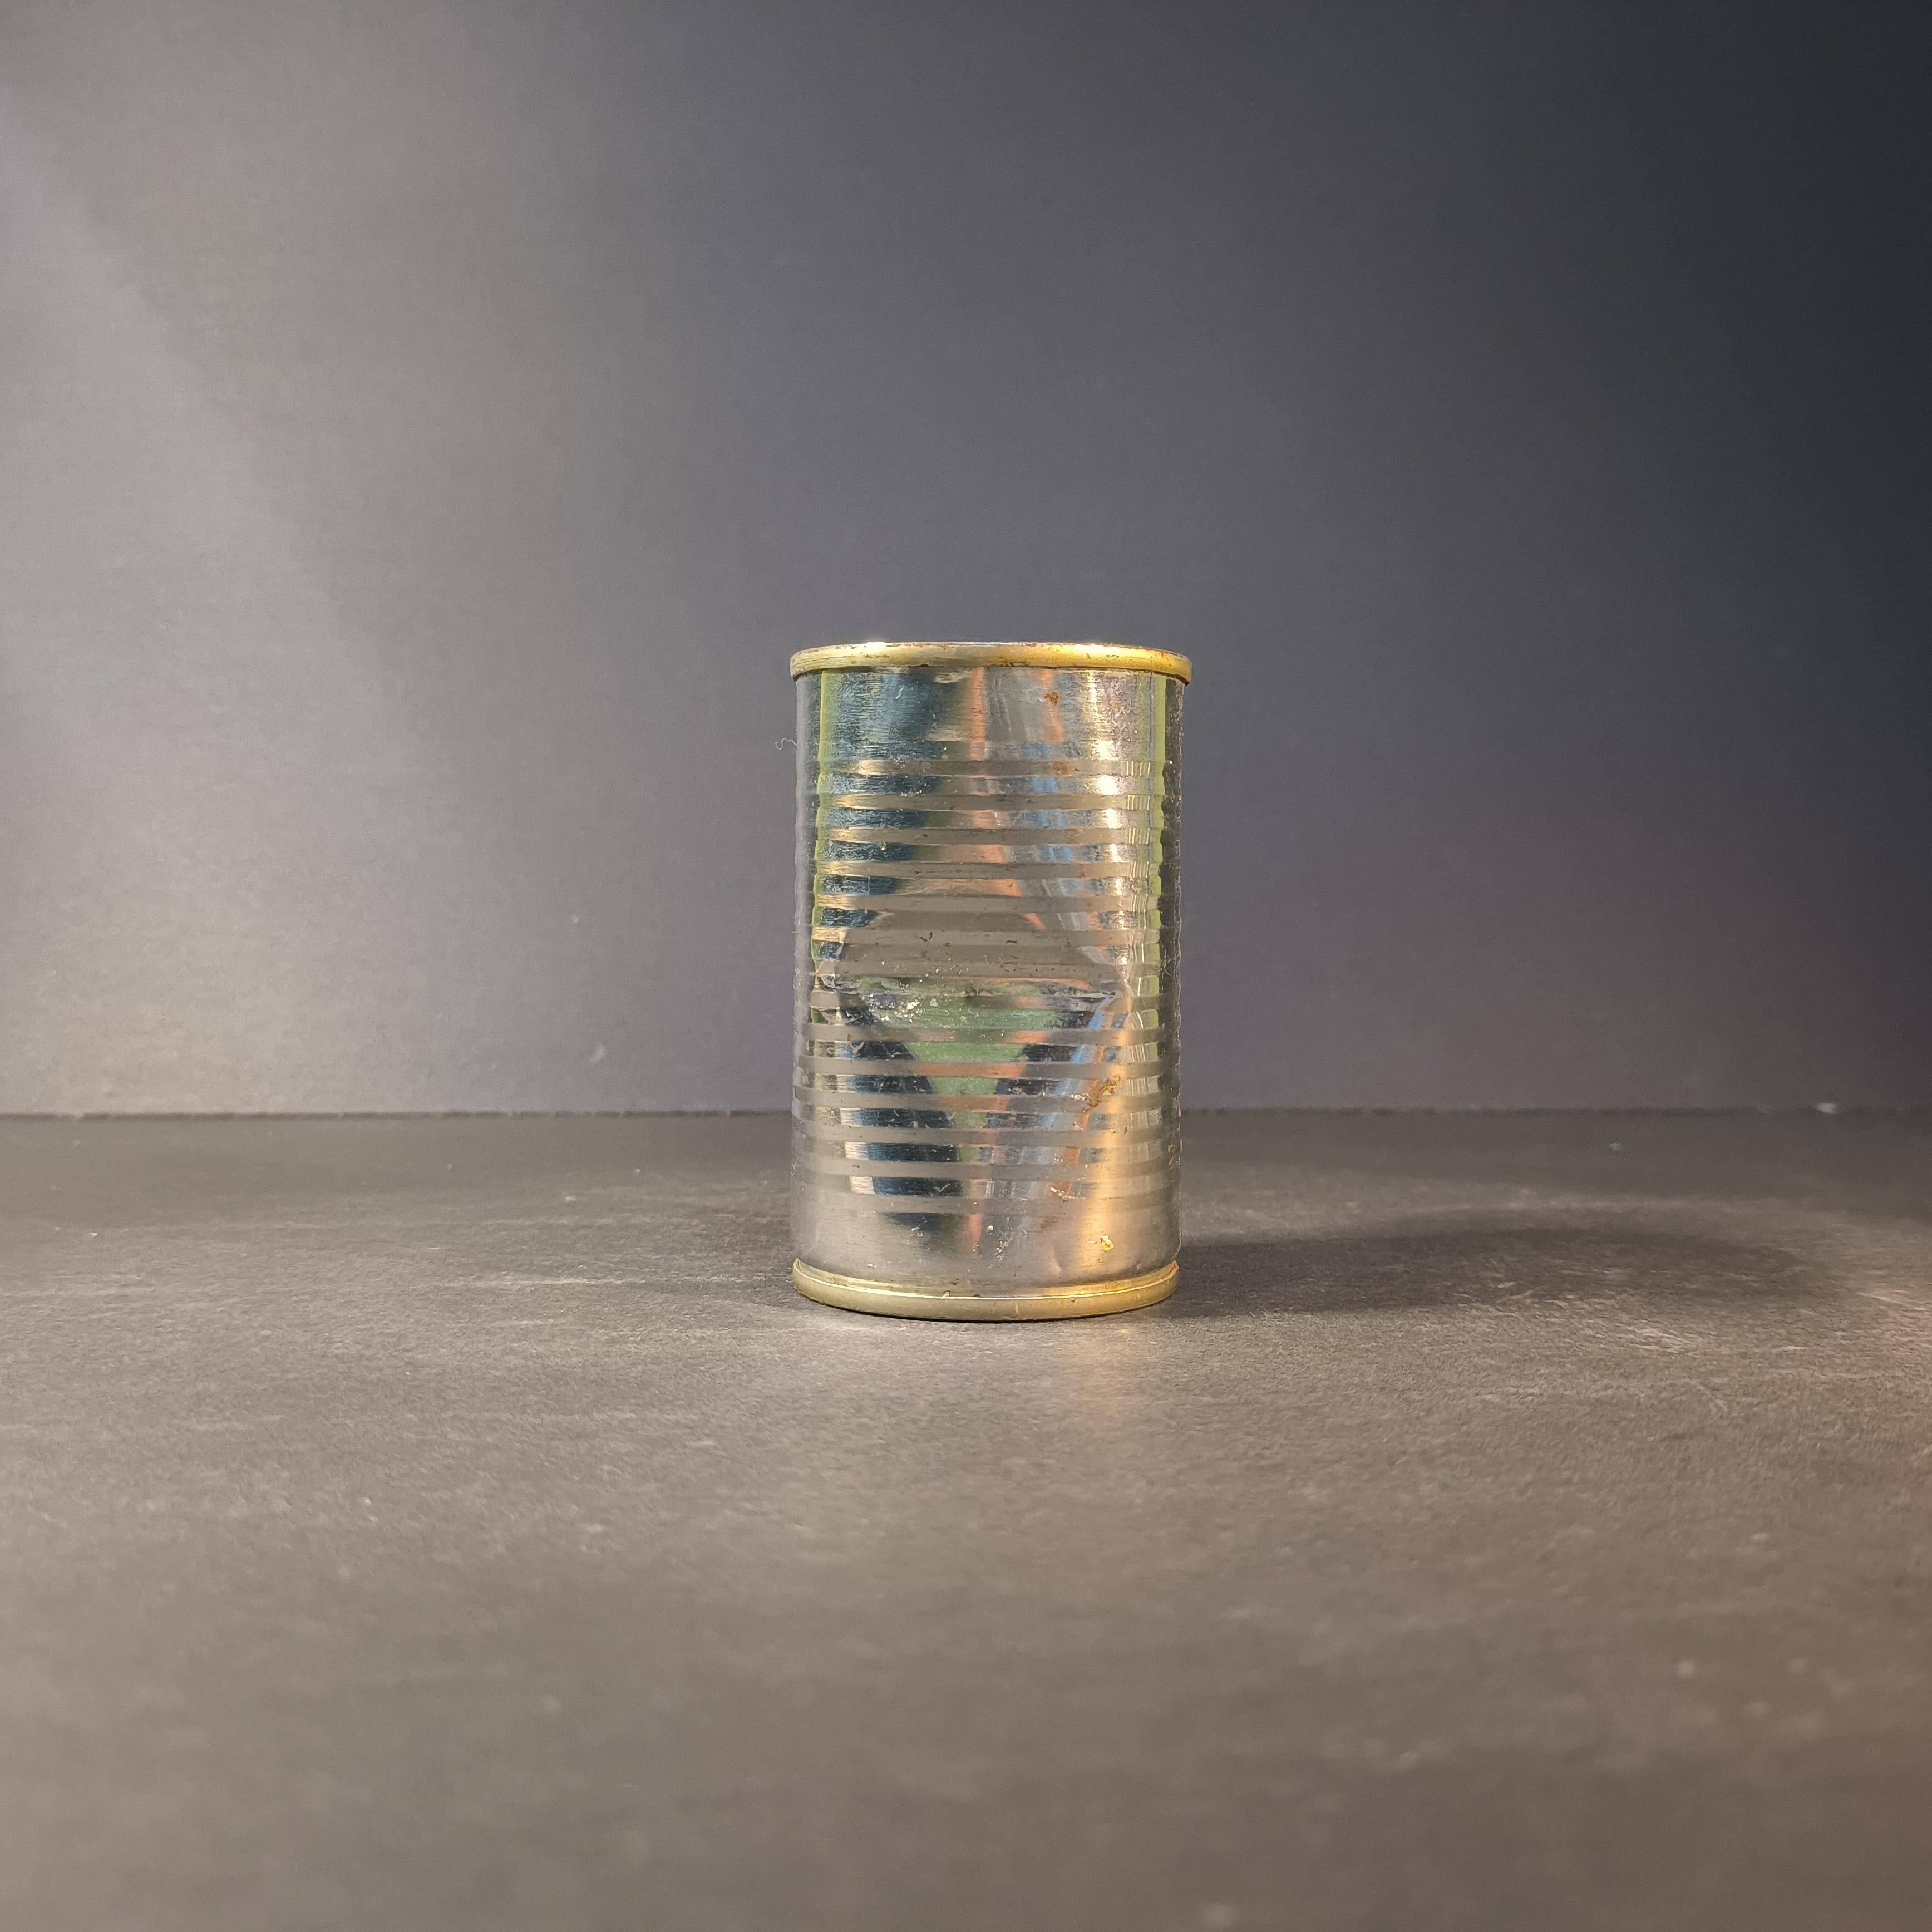Dented: (773, 602, 1194, 1345)
